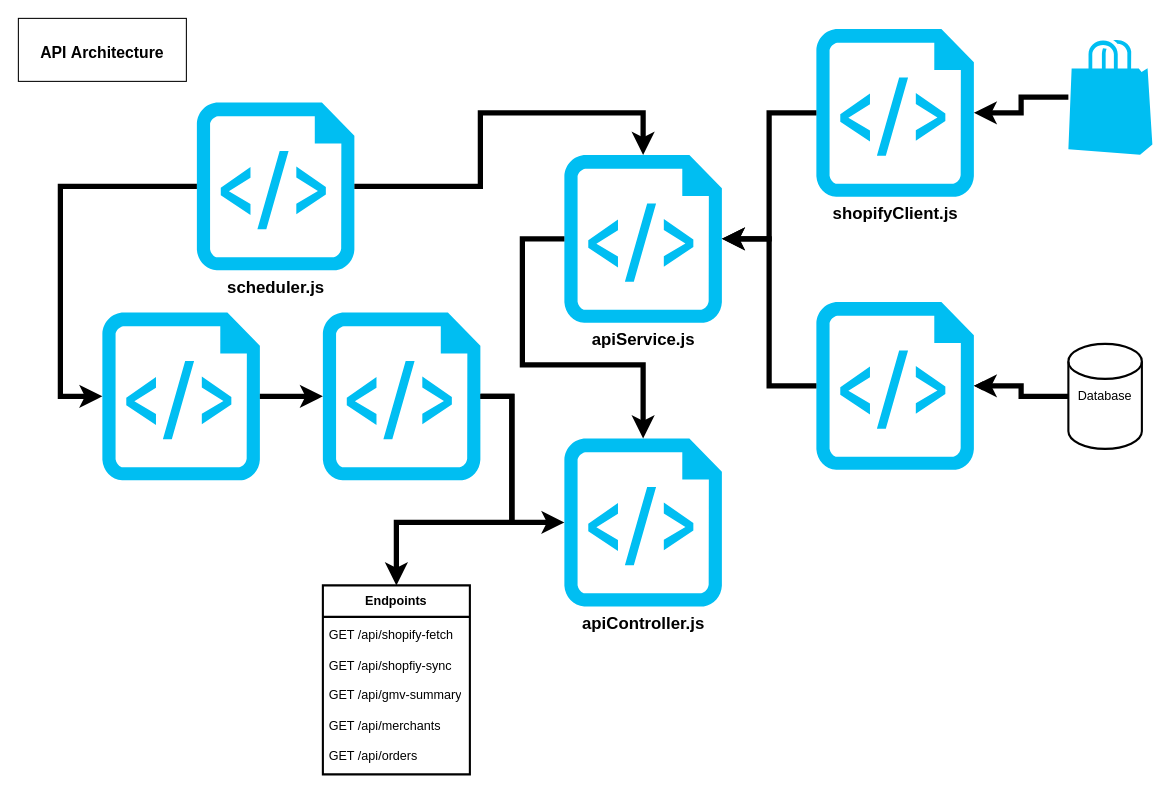
Some shapes in this 1171 by 794 pixel diagram are drawn without their labels. Each missing label, with the centre of its shape:
"routes .js" goes at (401,396).
"server.js" goes at (180,396).
"Shopify API" goes at (1110,96).
"supabaseClient .js" goes at (894,385).
